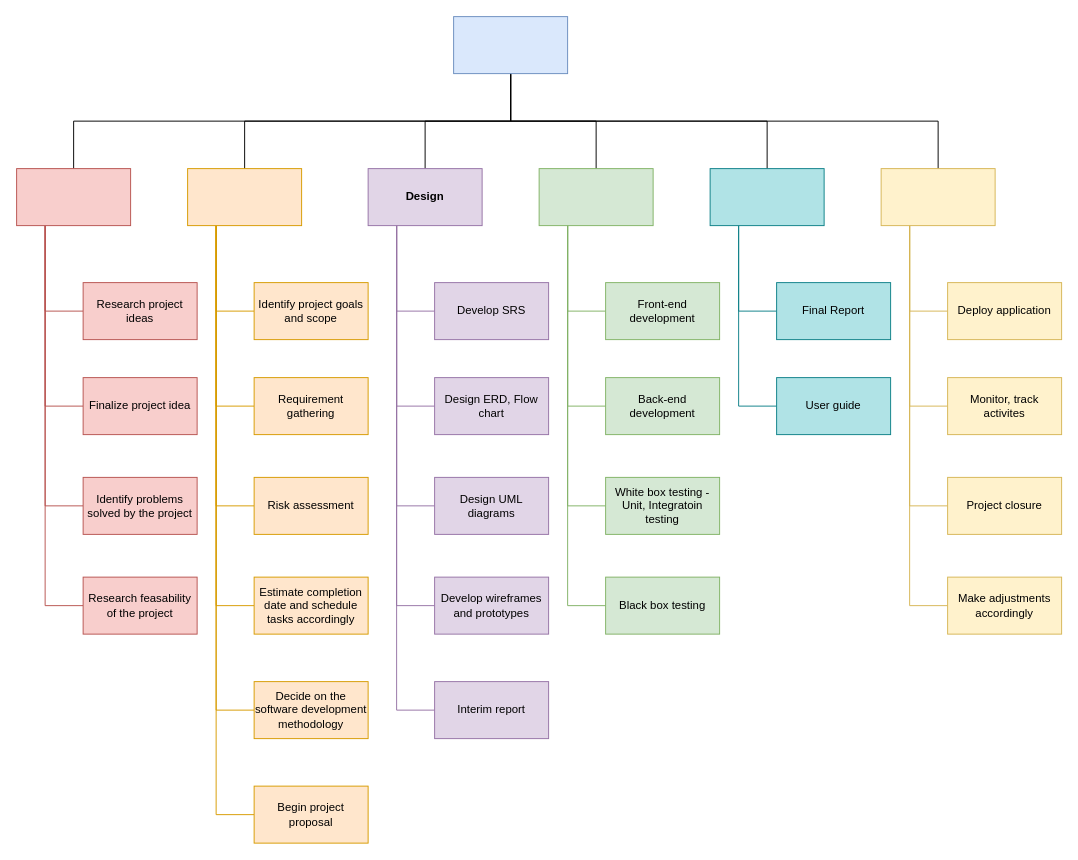
The diagram is 1078 pixels wide and 860 high, and some of its shapes have lost their labels. Each missing label, with the centre of its shape:
Deployment: the point at 937,197
Development: the point at 595,197
Documentation: the point at 766,197
Initiation: the point at 73,197
Planning: the point at 244,197
Travel Planner: the point at 510,45
